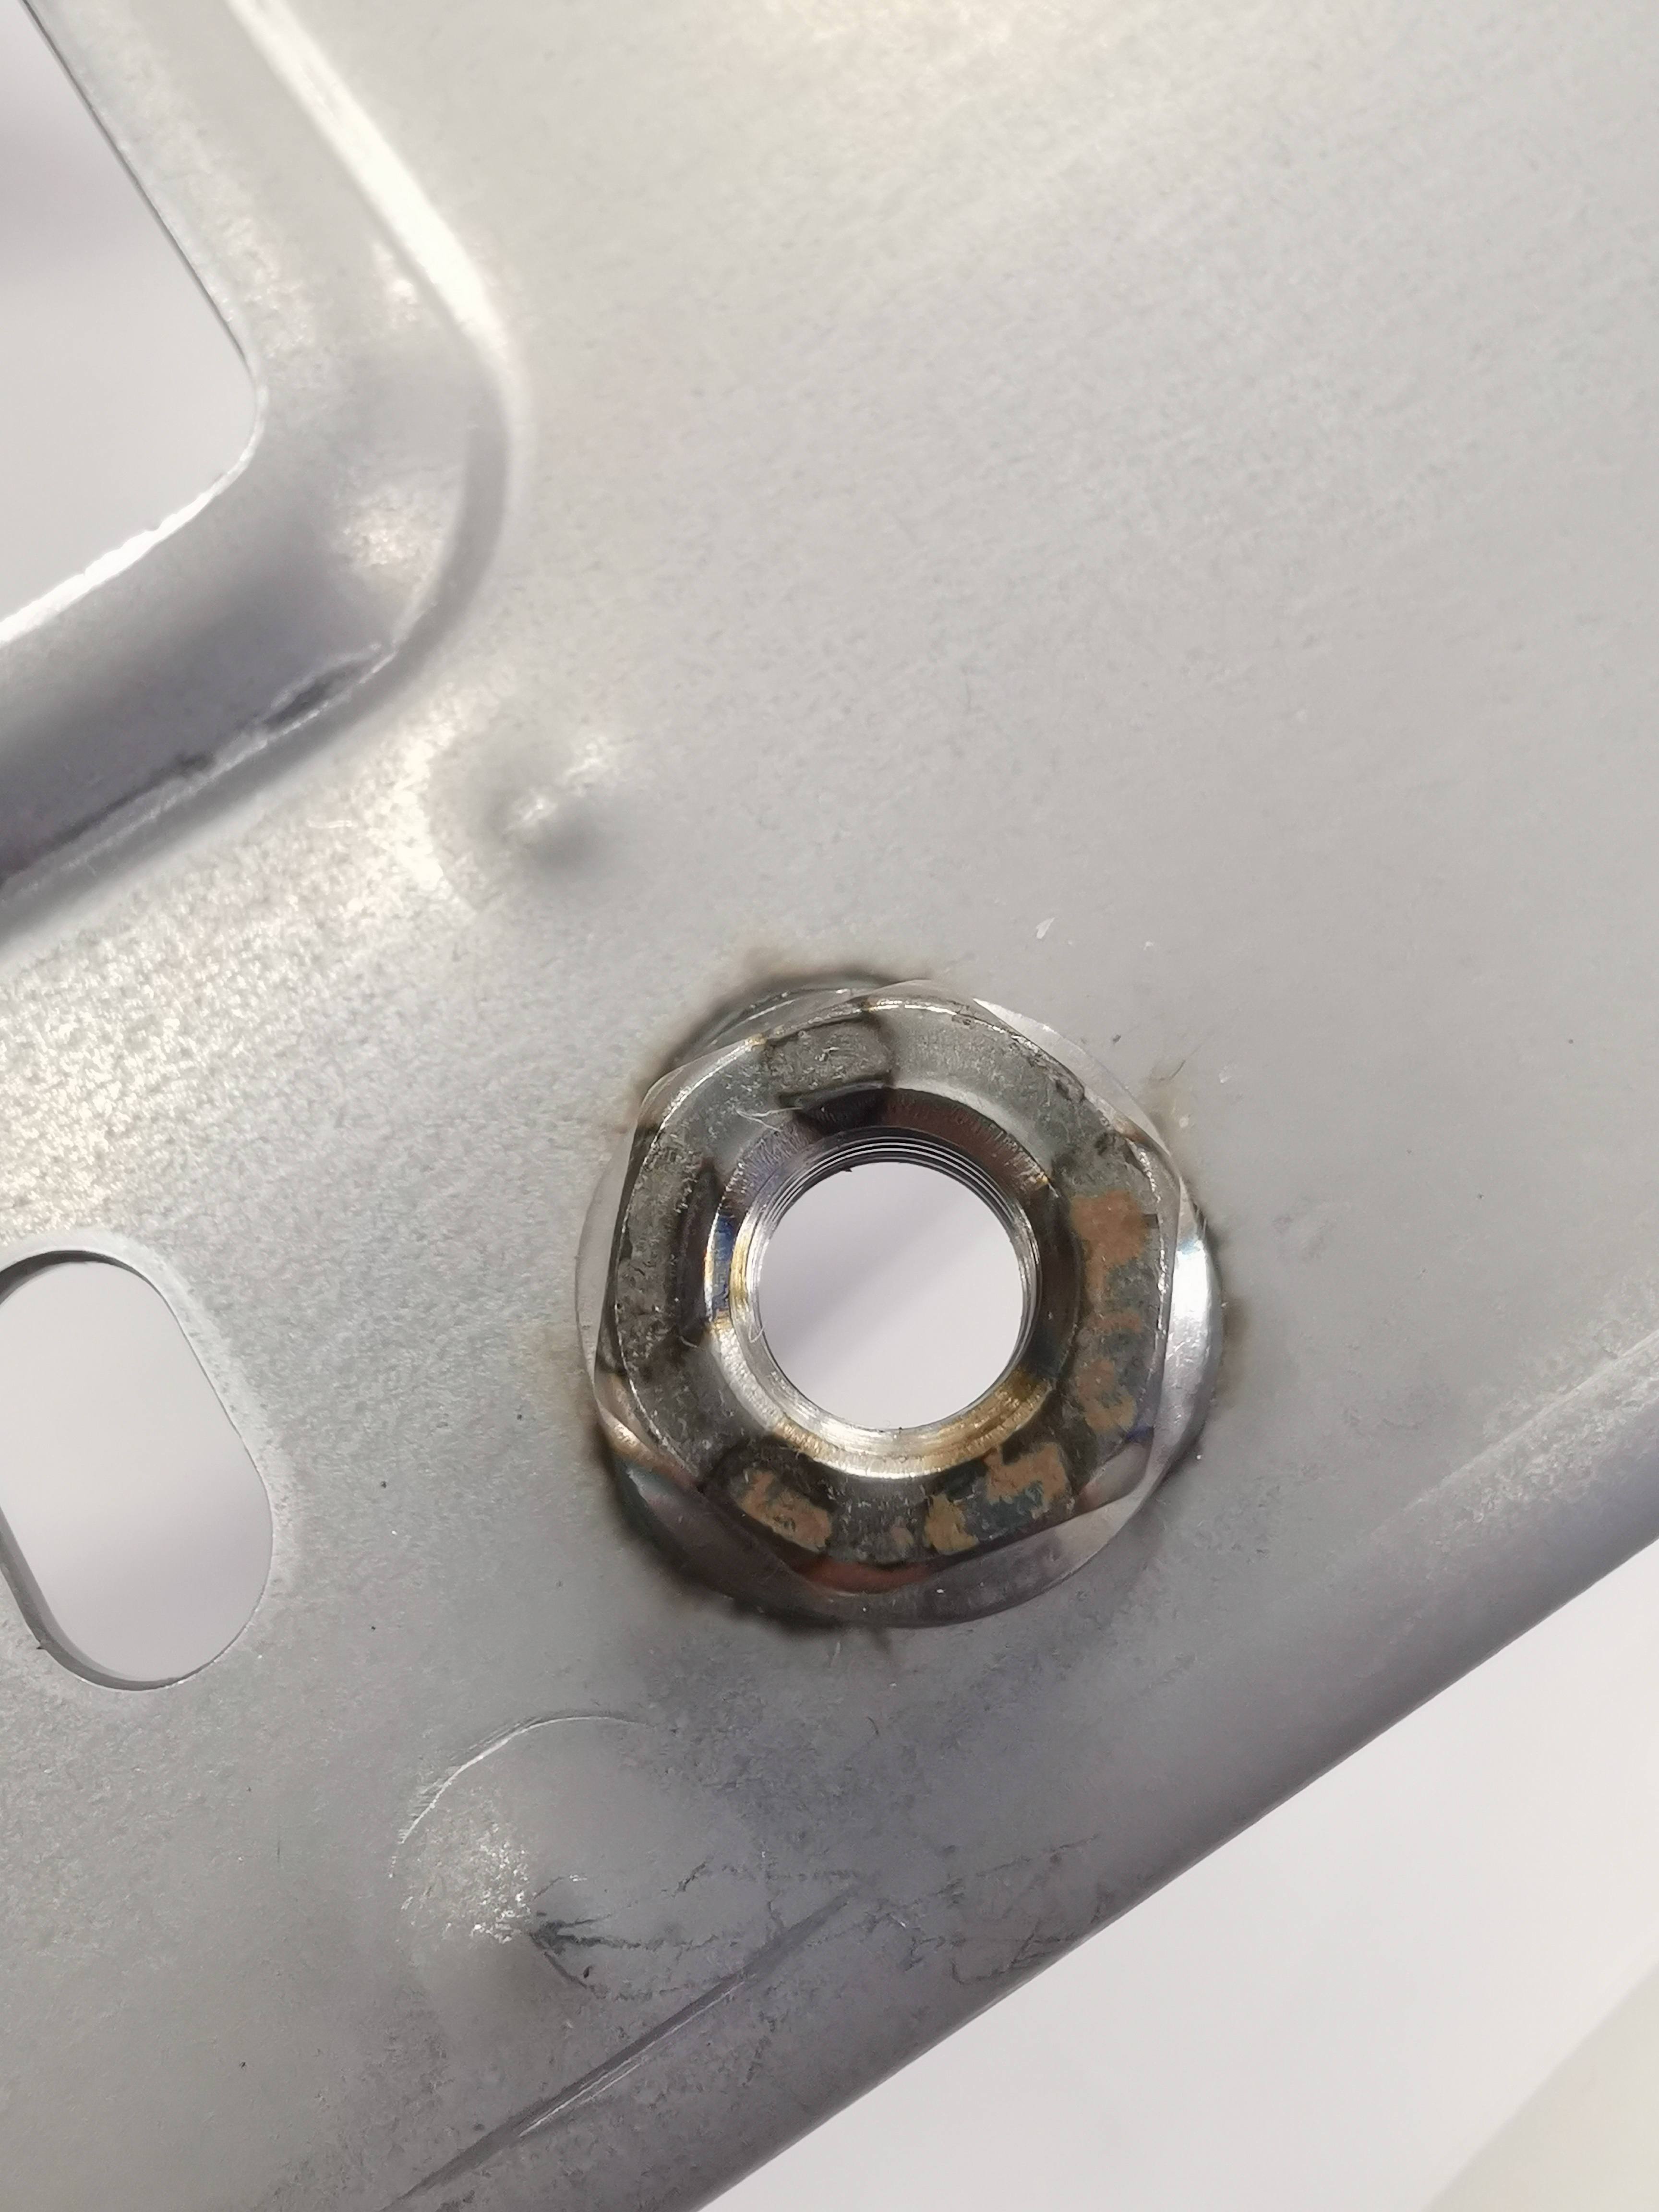dog: (552, 944, 1239, 1649)
